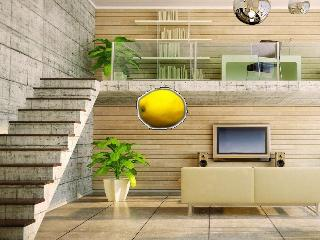lemon: (139, 90, 185, 128)
